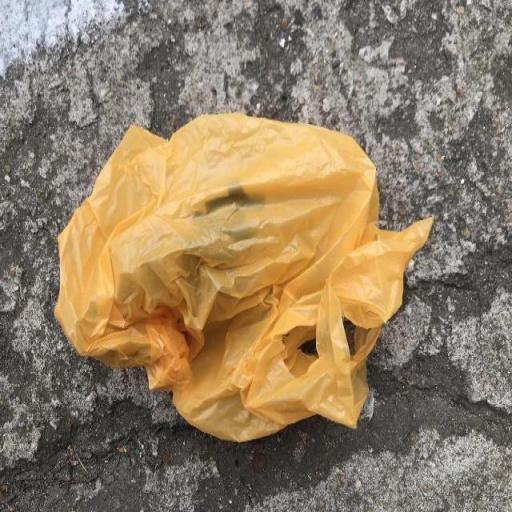plastic-bag: (53, 112, 437, 445)
